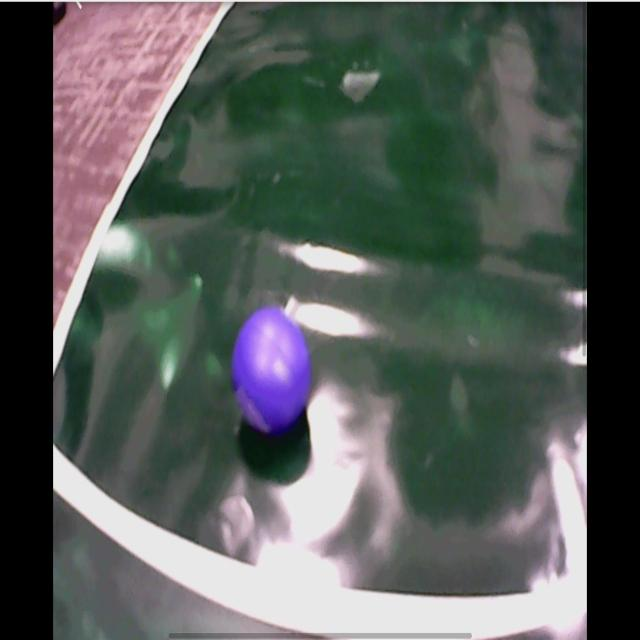ball: (233, 306, 310, 435)
